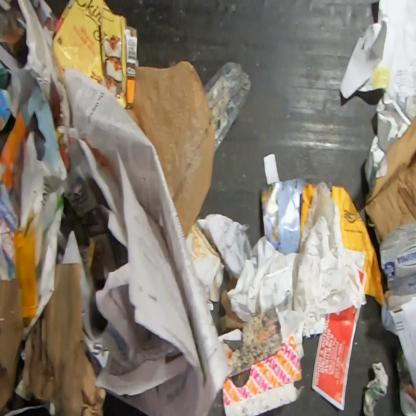cardboard: (20, 261, 108, 415), (51, 0, 140, 108), (0, 80, 62, 196), (362, 115, 415, 247), (221, 338, 307, 415), (0, 277, 24, 413), (379, 223, 415, 311), (218, 275, 247, 335), (189, 222, 226, 268)
rigid_plastic: (204, 61, 252, 156)
soft_plastic: (123, 59, 214, 242), (13, 228, 38, 327)
